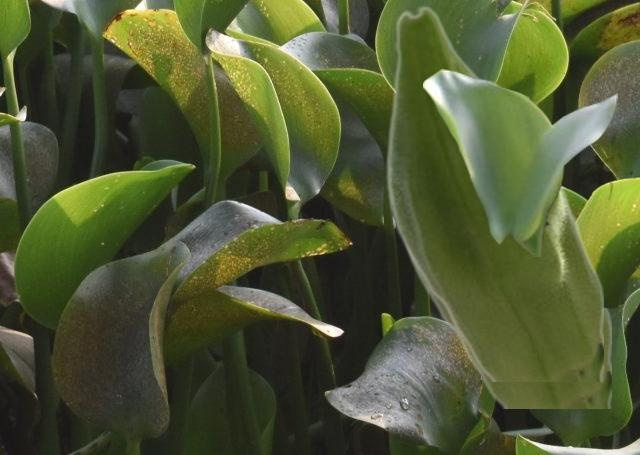okra: (385, 5, 602, 380), (402, 246, 610, 407)
